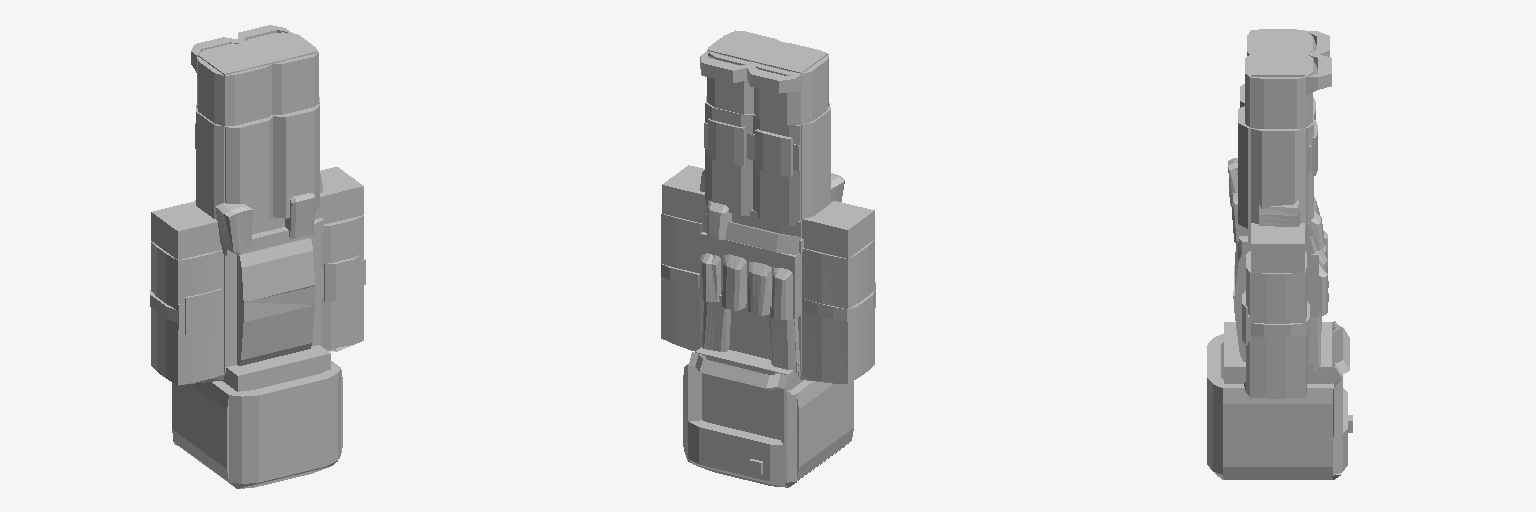
Rendered from stalker.berill.obj.
3 views of the same model, side by side, from view 1: azimuth 30°, elevation 25°; view 2: azimuth 150°, elevation 25°; view 3: azimuth 270°, elevation 25° (orthographic).
Parts seen in each view (by area): view 1: headModel, bodyModel, rightLegModel, rightArmModel, leftLegModel, leftArmModel, right_arm, head.001, left_arm, right_leg, left_leg; view 2: bodyModel, headModel, rightLegModel, rightArmModel, leftLegModel, leftArmModel, head.001, right_arm, left_arm, right_leg, left_leg; view 3: headModel, leftLegModel, leftArmModel, bodyModel, left_arm, head.001, left_leg, right_leg, rightLegModel.
Boxes of the visible parts, box(x1,y1,x2,y2) form: headModel: box(172, 361, 342, 488); bodyModel: box(195, 174, 323, 372); rightLegModel: box(191, 37, 272, 225); rightArmModel: box(150, 241, 224, 385); leftLegModel: box(238, 25, 319, 218); leftArmModel: box(321, 215, 365, 351); right_arm: box(151, 201, 221, 259); head.001: box(223, 345, 330, 391); left_arm: box(320, 167, 363, 224); right_leg: box(198, 43, 270, 74); left_leg: box(245, 32, 317, 63); bodyModel: box(700, 170, 844, 376); headModel: box(683, 352, 853, 487); rightLegModel: box(747, 43, 830, 226); rightArmModel: box(800, 240, 875, 383); leftLegModel: box(700, 31, 778, 215); leftArmModel: box(661, 214, 703, 351); head.001: box(695, 347, 799, 439); right_arm: box(803, 201, 874, 258); left_arm: box(662, 165, 704, 223); right_leg: box(755, 42, 827, 73); left_leg: box(708, 30, 780, 61); headModel: box(1207, 321, 1352, 479); leftLegModel: box(1238, 54, 1331, 229); leftArmModel: box(1242, 251, 1309, 398); bodyModel: box(1228, 158, 1328, 376); left_arm: box(1251, 223, 1304, 272); head.001: box(1224, 322, 1331, 383); left_leg: box(1251, 53, 1304, 76); right_leg: box(1251, 30, 1304, 52); rightLegModel: box(1240, 29, 1329, 119).
Size of the model in its own units: 16.63 by 33.3 by 10.75.